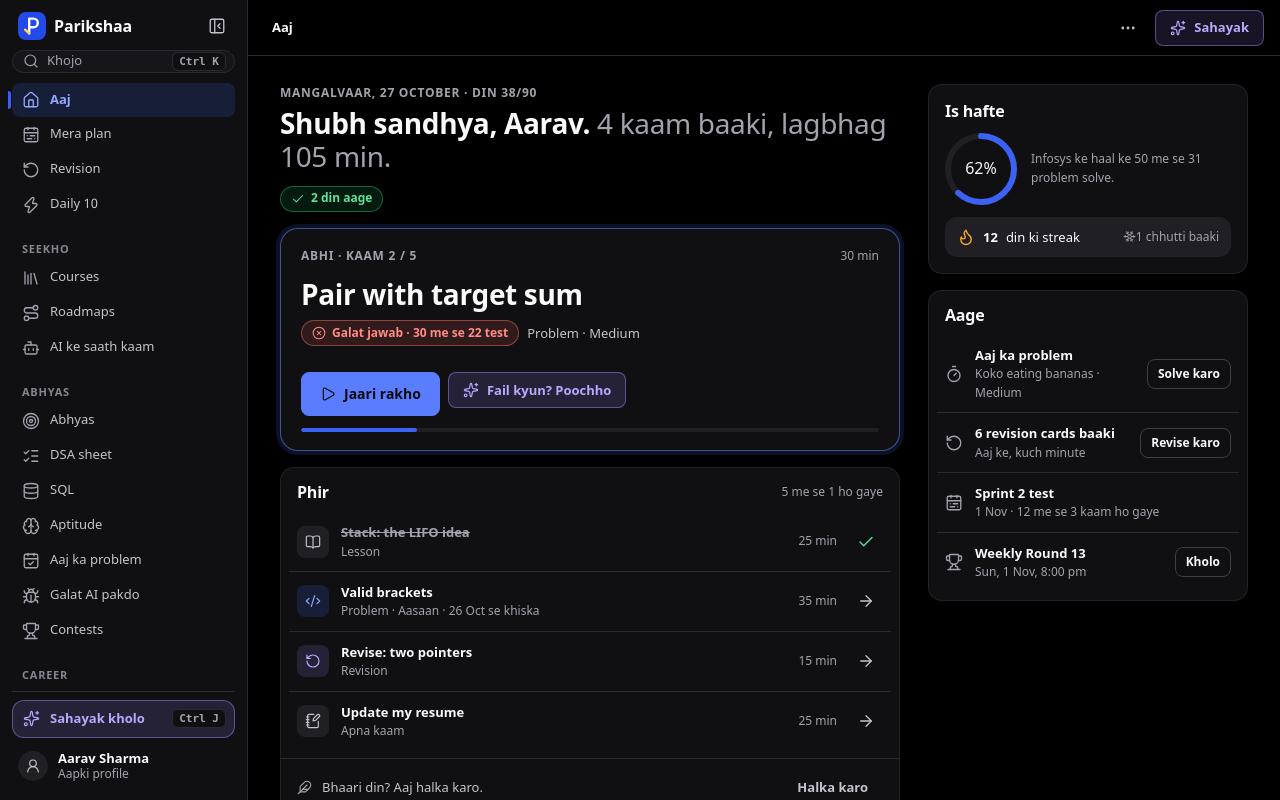
Learn v2's shell › opens Sahayak beside the page, by its buttons and by Ctrl+J
The image size is (1280, 800).
Click the button "Sahayak" at (1210, 28), box [1155,10,1264,46]
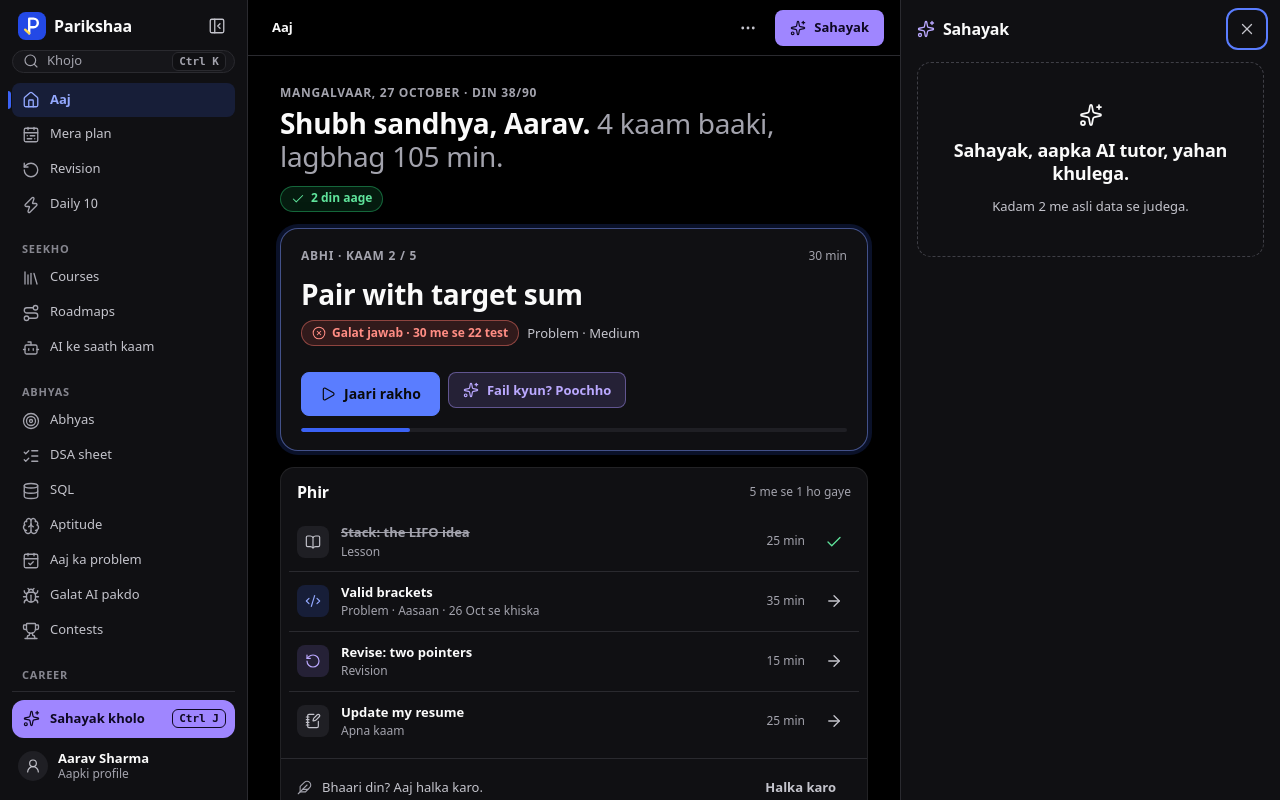
Check: the heading "Sahayak, aapka AI tutor, yahan khulega." is shown, box [942,139,1239,184]
Click the button named "Band karo" at (1247, 29), box [1230,12,1264,46]
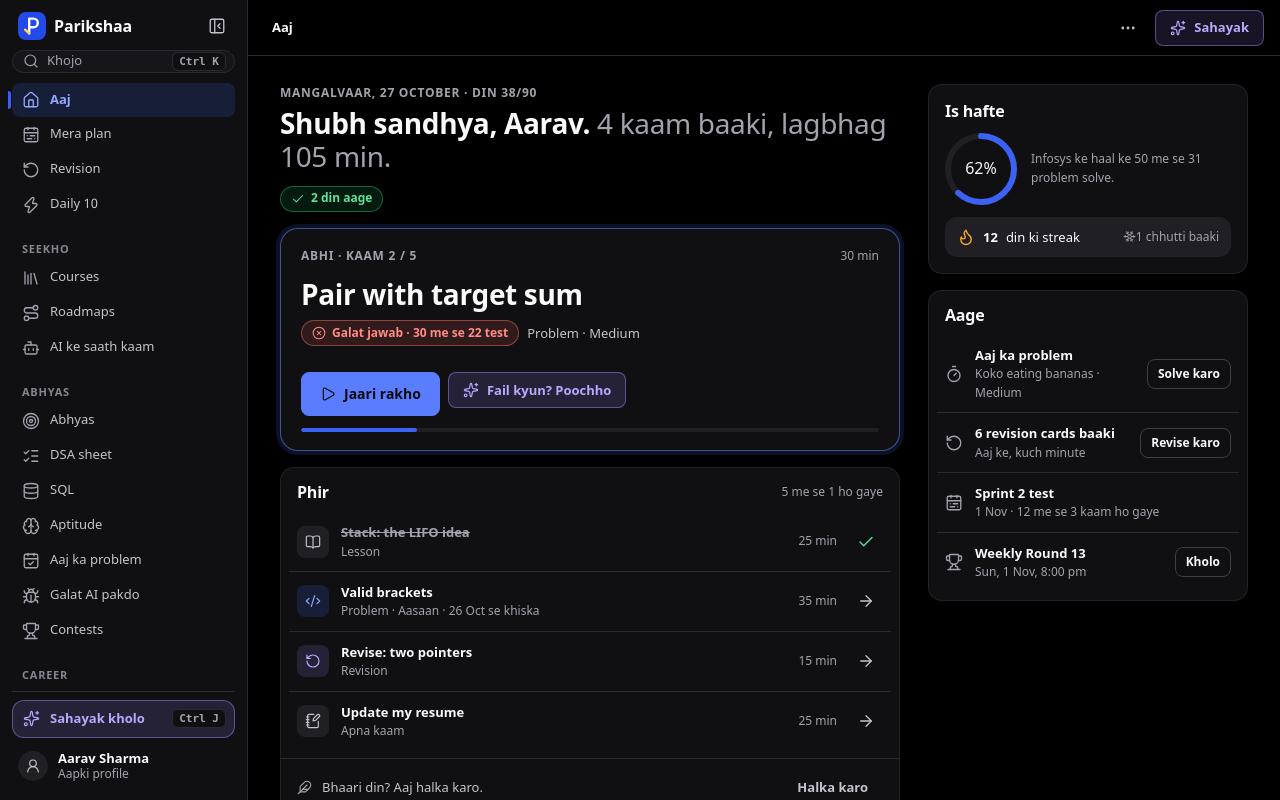
Press j
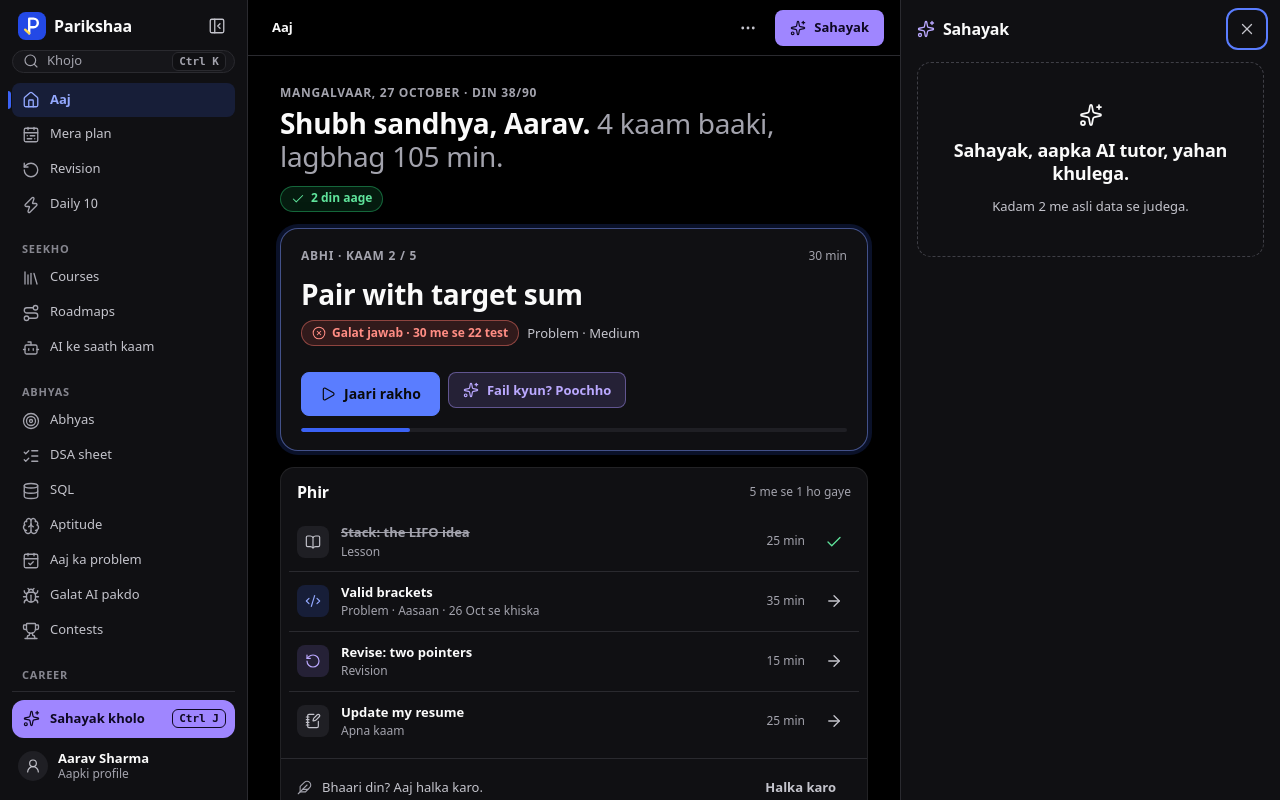
Check: the element "Sahayak" is shown, box [900,0,1279,799]
Press j
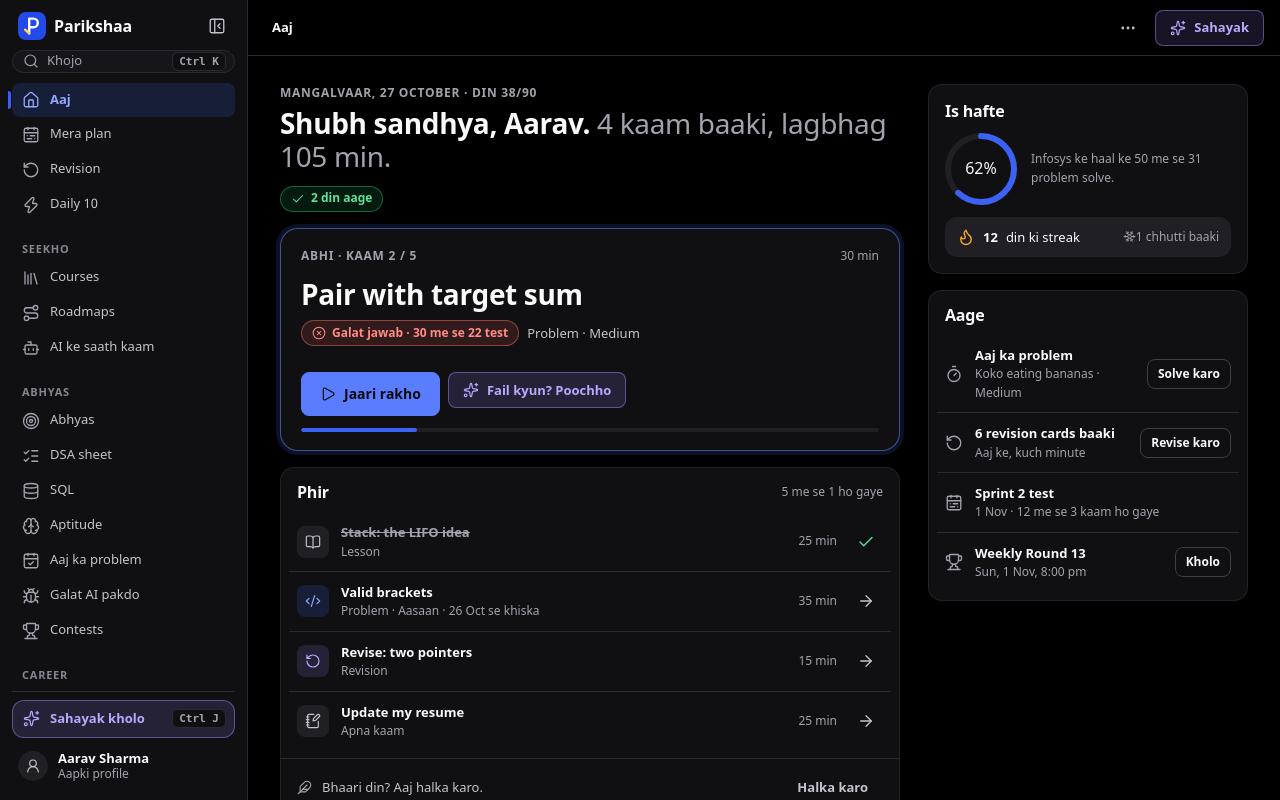
Aaj's "why it fails" asks Sahayak too.
Click the button "Fail kyun? Poochho" at (537, 390), box [448,372,626,408]
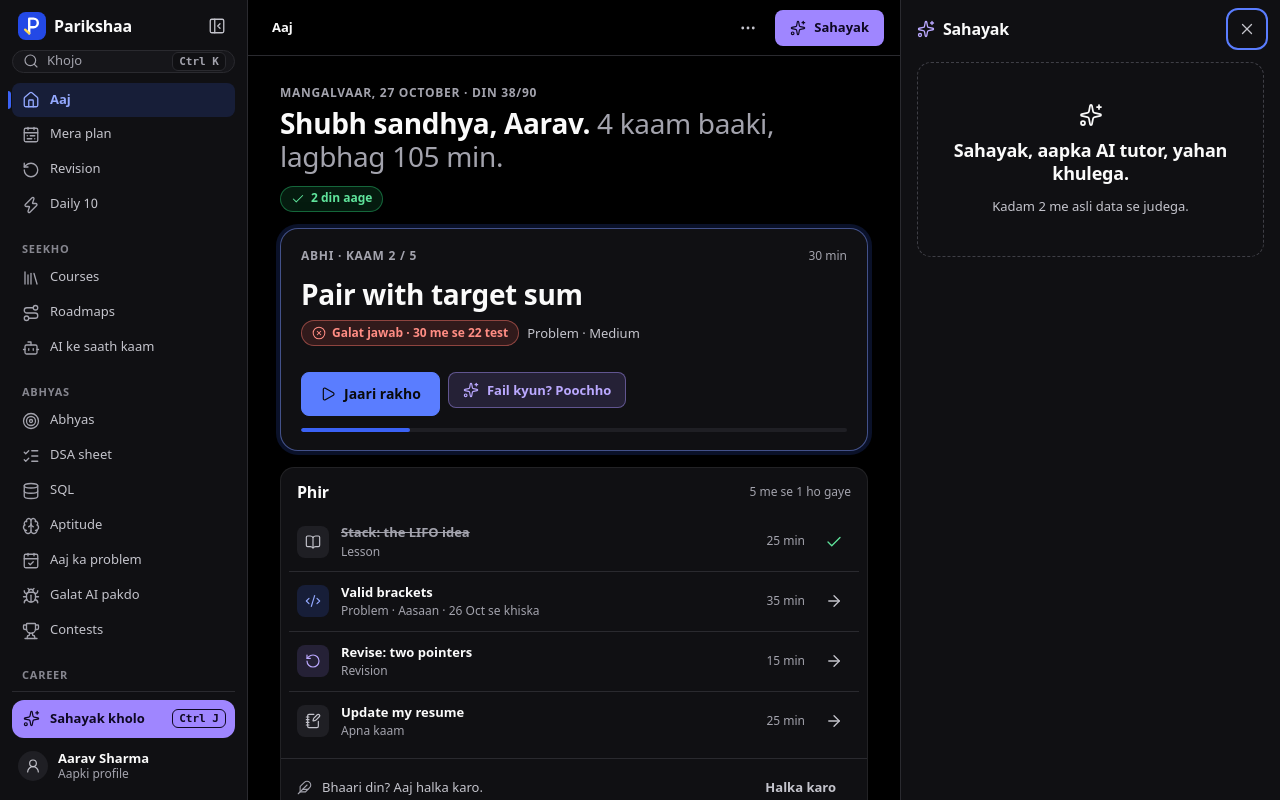
Check: the element "Sahayak" is shown, box [900,0,1279,799]
